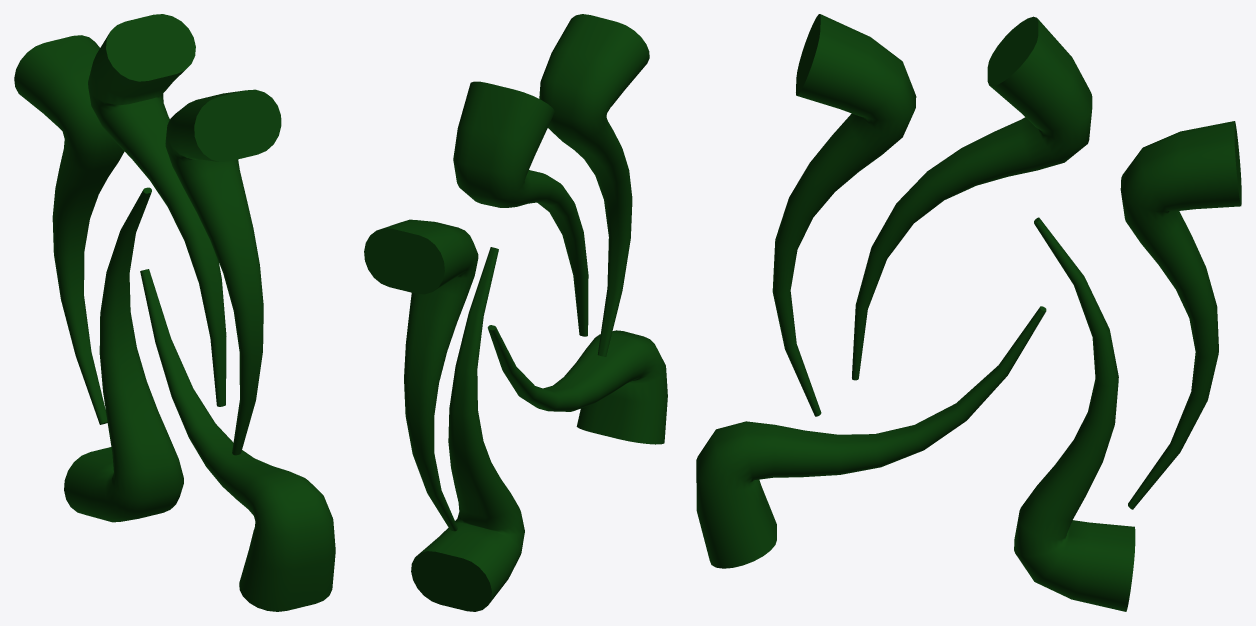
Rendered from doorvines.glb.
The picture shows the model from 3 angles, left to right: view 1: azimuth 30°, elevation 25°; view 2: azimuth 150°, elevation 25°; view 3: azimuth 270°, elevation 25°; orthographic projection. The views are drawn at different scales.
Parts seen in each view (by area): view 1: BézierCurve; view 2: BézierCurve; view 3: BézierCurve.
Part boxes in pixels (x1,y1,x2,y2): BézierCurve: (14,14,335,611); BézierCurve: (364,14,667,611); BézierCurve: (696,14,1241,611).
Bounding box in the file's own units: 0.3629 × 1.76 × 1.53.
